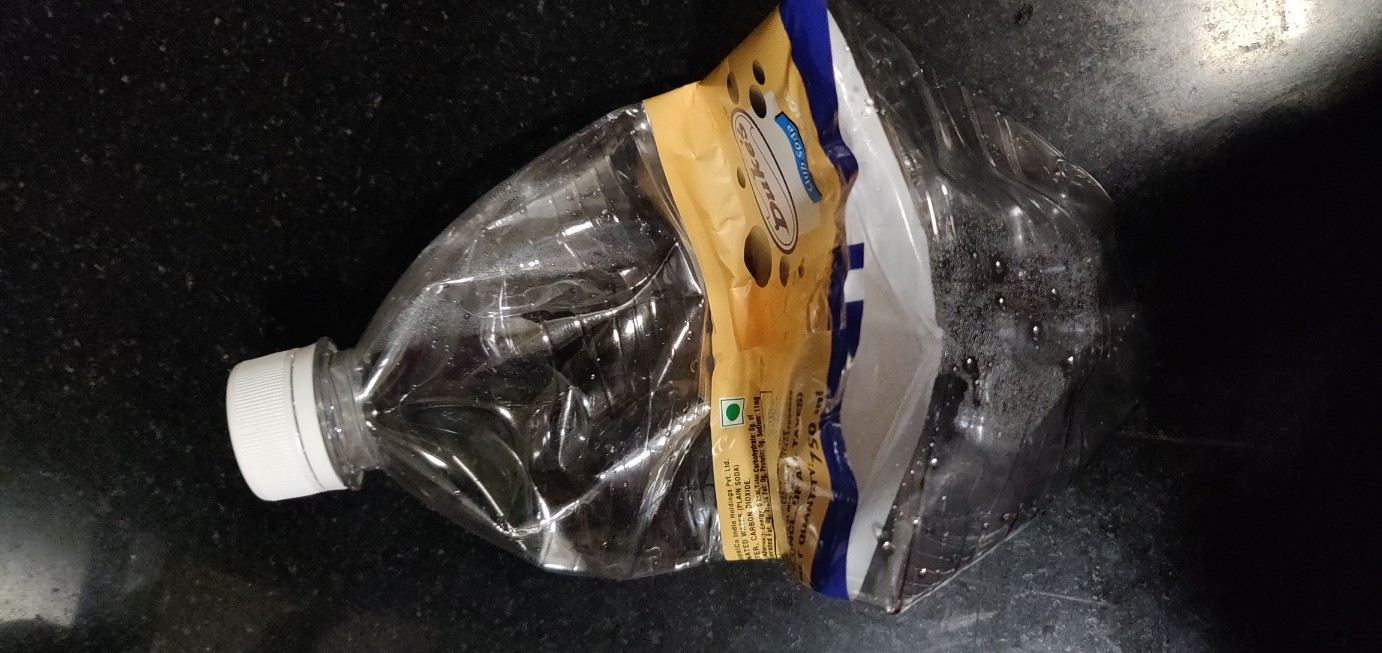Electronics: (204, 10, 1180, 653)
